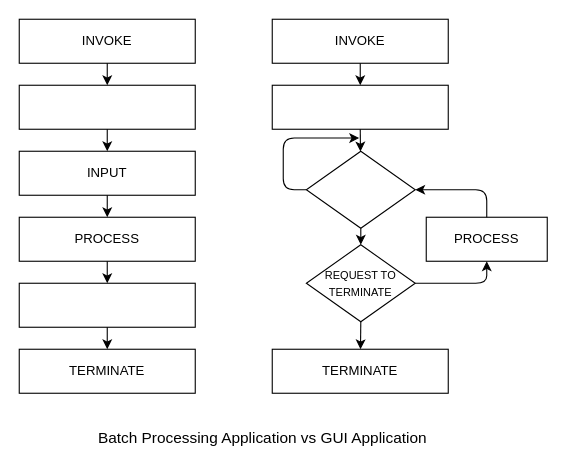
This 567x468 diagram has some shape labels left out. The shapes that lost their labels are listed below. From the top down, each one's box as (x1, y1, x2, y2) in pixels, then its label:
(18, 84, 195, 129): READ
(271, 84, 448, 129): START EVENT LOOP
(305, 150, 415, 228): EVENT TO PROCESS
(18, 282, 195, 327): WRITE OUTPUT
